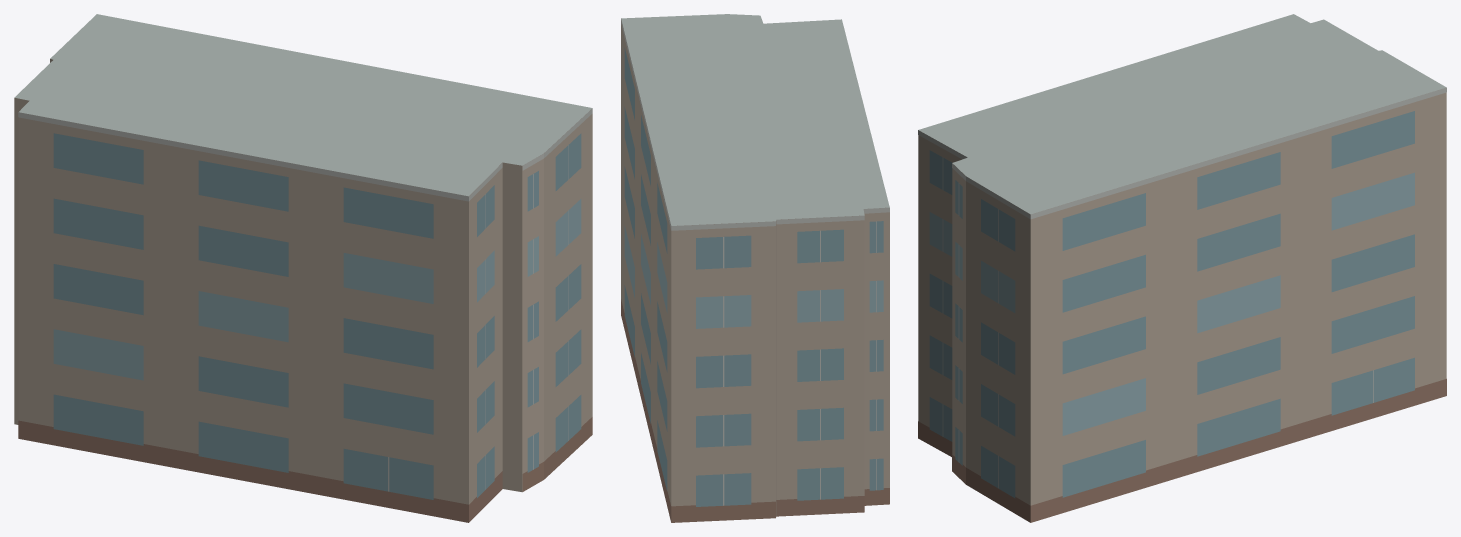
The model's file is survey-upis-32981811.glb.
The picture shows the model from 3 angles, left to right: view 1: azimuth 30°, elevation 25°; view 2: azimuth 150°, elevation 25°; view 3: azimuth 270°, elevation 25°; orthographic projection. The views are drawn at different scales.
Parts seen in each view (by area): view 1: survey-upis-32981811.tmp; view 2: survey-upis-32981811.tmp; view 3: survey-upis-32981811.tmp.
Part boxes in pixels (box(x1,y1,x2,y2)): survey-upis-32981811.tmp: box(14, 14, 592, 522); survey-upis-32981811.tmp: box(621, 14, 889, 522); survey-upis-32981811.tmp: box(918, 14, 1446, 522).
Size of the model in its own units: 21.19 by 15.2 by 23.62.
